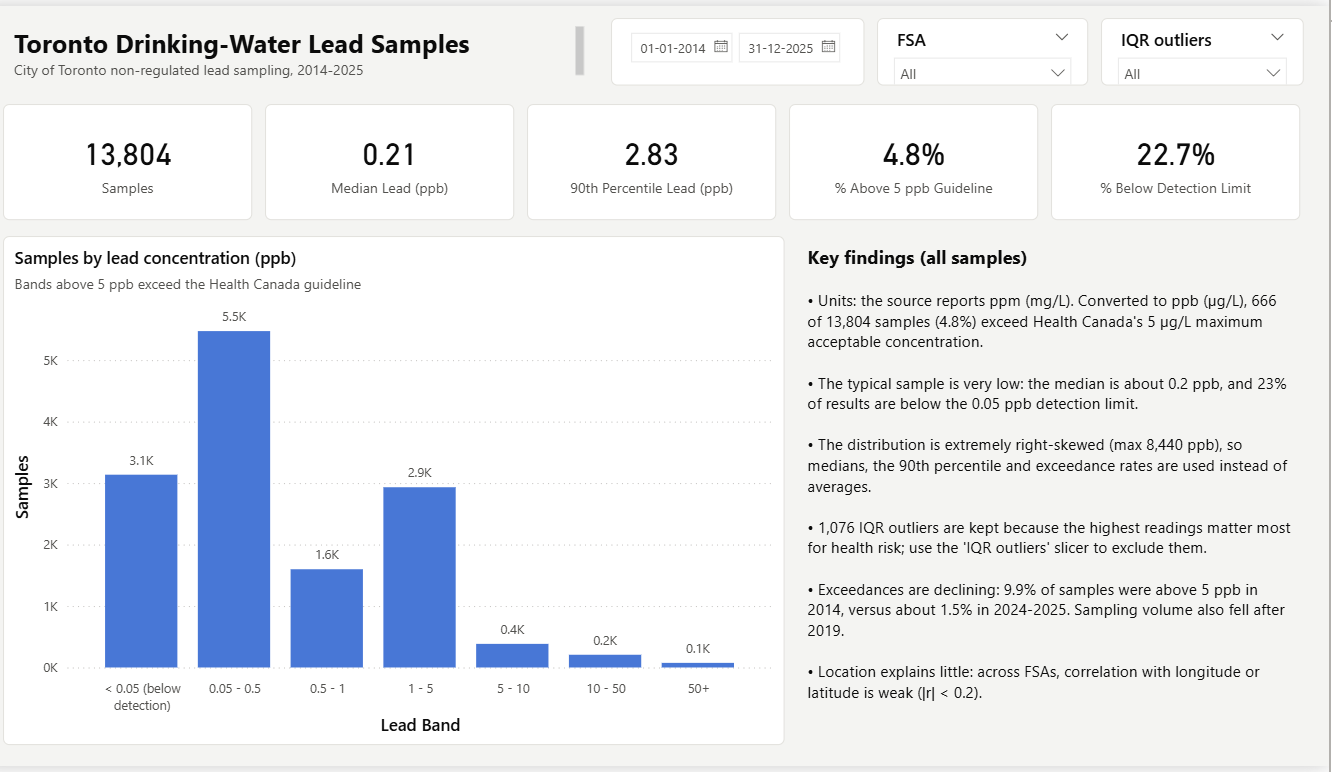

What the dashboard file says about the page in this screenshot:
{"tool":"powerbi","page":{"name":"Overview","canvas":[1280,720],"ordinal":0},"visuals":[{"type":"textbox","box":[24,12,560,64],"z":1000},{"type":"slicer","fields":{"Values":["Date.Date"]},"box":[600,12,240,64],"z":2000},{"type":"slicer","fields":{"Values":["FSA Lookup.FSA"]},"box":[852,12,200,64],"z":3000},{"type":"slicer","fields":{"Values":["Lead Samples.Outlier Status"]},"box":[1064,12,192,64],"z":4000},{"type":"card","fields":{"Values":["Lead Samples.Samples"]},"box":[24,92,236,110],"z":5000},{"type":"card","fields":{"Values":["Lead Samples.Median Lead (ppb)"]},"box":[272,92,236,110],"z":6000},{"type":"card","fields":{"Values":["Lead Samples.90th Percentile Lead (ppb)"]},"box":[520,92,236,110],"z":7000},{"type":"card","fields":{"Values":["Lead Samples.% Above 5 ppb Guideline"]},"box":[768,92,236,110],"z":8000},{"type":"card","fields":{"Values":["Lead Samples.% Below Detection Limit"]},"box":[1016,92,236,110],"z":9000},{"type":"clusteredColumnChart","title":"Samples by lead concentration (ppb)","fields":{"Category":["Lead Samples.Lead Band"],"Y":["Lead Samples.Samples"]},"box":[24,218,740,482],"z":10000},{"type":"textbox","box":[776,218,480,482],"z":11000}]}

Visuals, with their boxes in screenshot pixels (x1, y1, x2, y2), scaled from the page's 1280x720 canvas onto the 1332x772 screenshot:
textbox: 25 13 608 81
slicer - Date.Date: 624 13 874 81
slicer - FSA Lookup.FSA: 887 13 1095 81
slicer - Lead Samples.Outlier Status: 1107 13 1307 81
card - Lead Samples.Samples: 25 99 271 217
card - Lead Samples.Median Lead (ppb): 283 99 529 217
card - Lead Samples.90th Percentile Lead (ppb): 541 99 787 217
card - Lead Samples.% Above 5 ppb Guideline: 799 99 1045 217
card - Lead Samples.% Below Detection Limit: 1057 99 1303 217
"Samples by lead concentration (ppb)" clusteredColumnChart: 25 234 795 751
textbox: 808 234 1307 751
